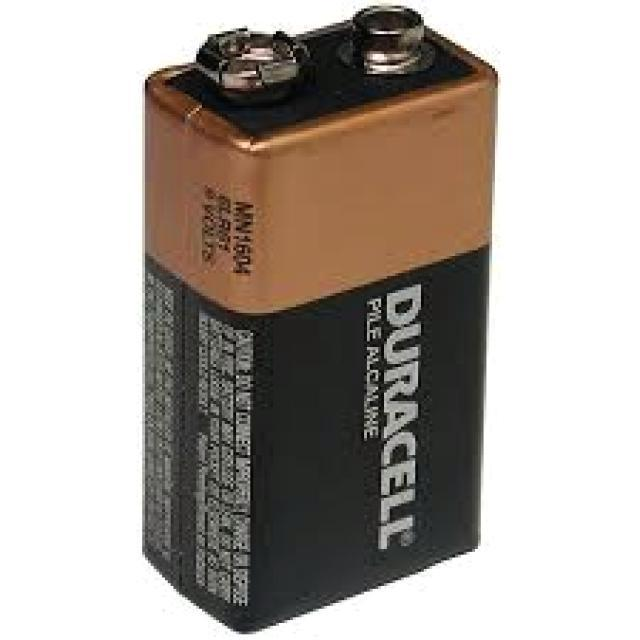battery: (141, 5, 500, 634)
